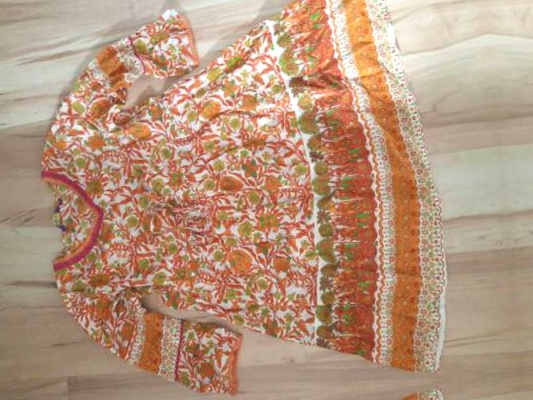Dress: (9, 0, 470, 400), (50, 384, 511, 400), (0, 0, 429, 9)
